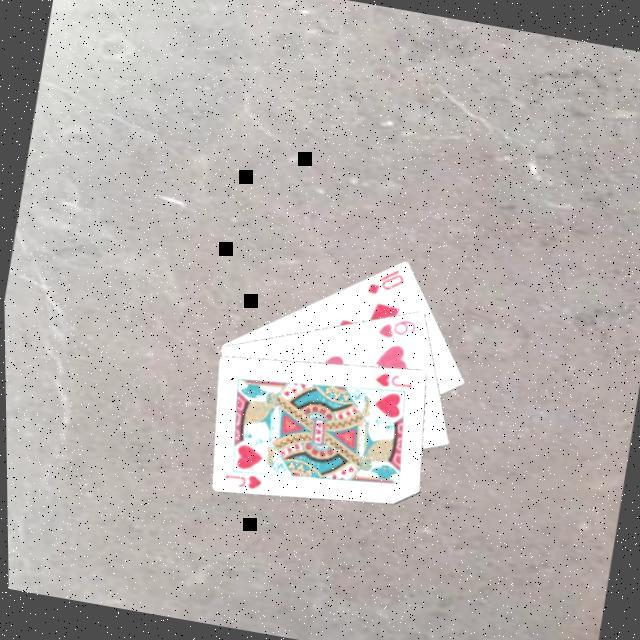10D: (360, 263, 405, 303)
6H: (370, 312, 417, 347)
JH: (367, 369, 413, 396), (215, 468, 261, 495)
